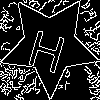H: (25, 20, 71, 74)
